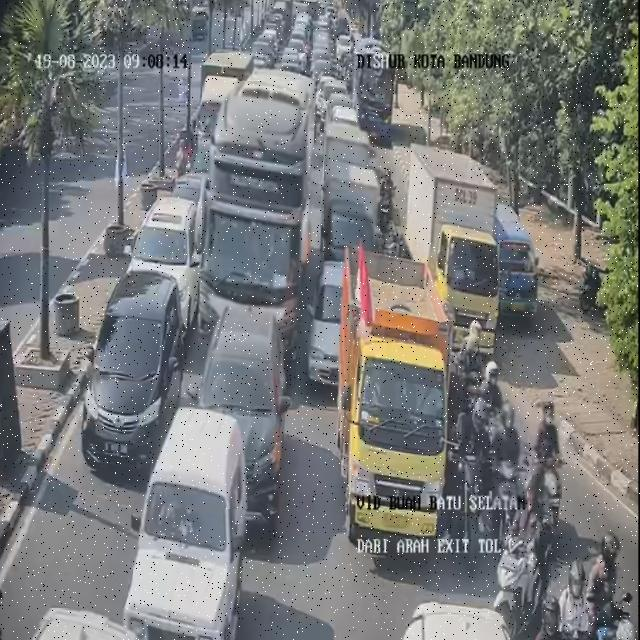bus: (357, 41, 390, 136)
cars: (134, 405, 255, 636), (189, 307, 287, 509), (91, 271, 186, 467), (188, 304, 288, 409), (133, 194, 200, 327), (324, 121, 380, 261), (311, 259, 353, 390), (386, 603, 524, 640), (2, 608, 156, 640), (502, 230, 541, 328), (316, 73, 342, 112), (314, 30, 332, 58)
motorcycle: (492, 397, 527, 508), (534, 499, 566, 608), (532, 403, 562, 512), (585, 534, 616, 638), (550, 562, 588, 640), (475, 361, 502, 443), (459, 323, 485, 398), (605, 527, 624, 579)
truck: (348, 257, 456, 569), (202, 81, 314, 358), (420, 140, 498, 370)
